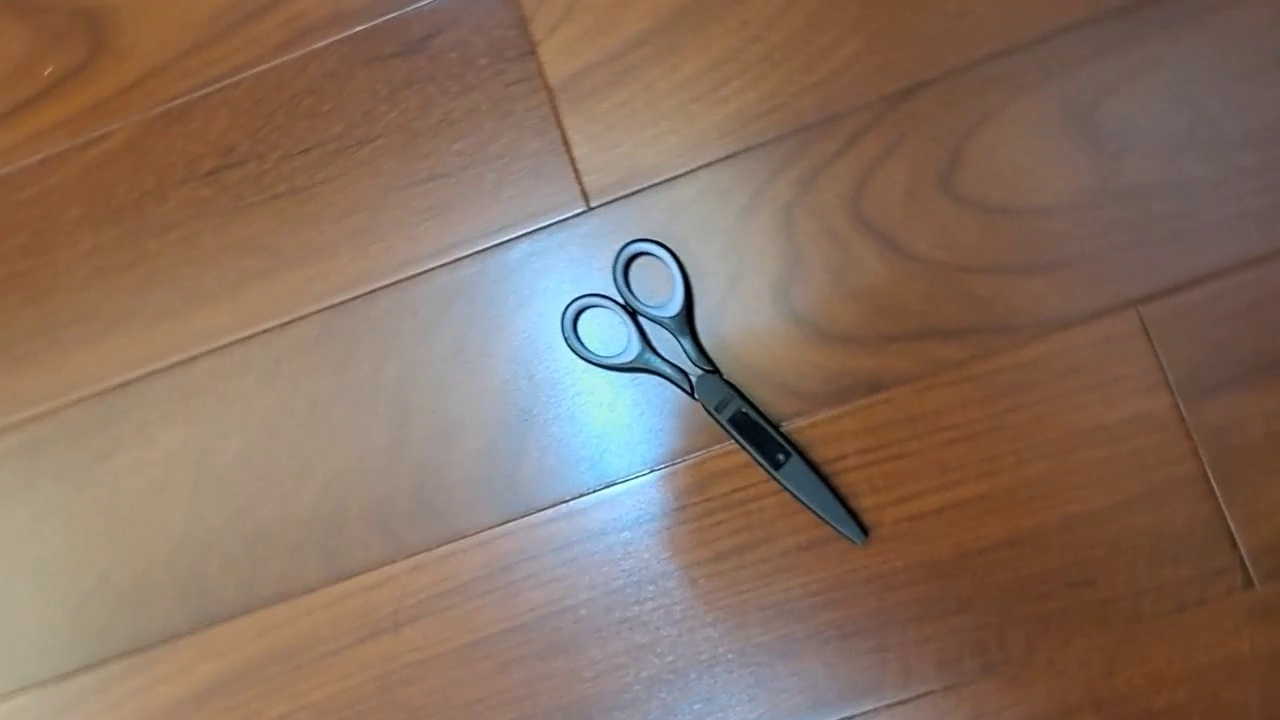scissors: (559, 237, 870, 548)
